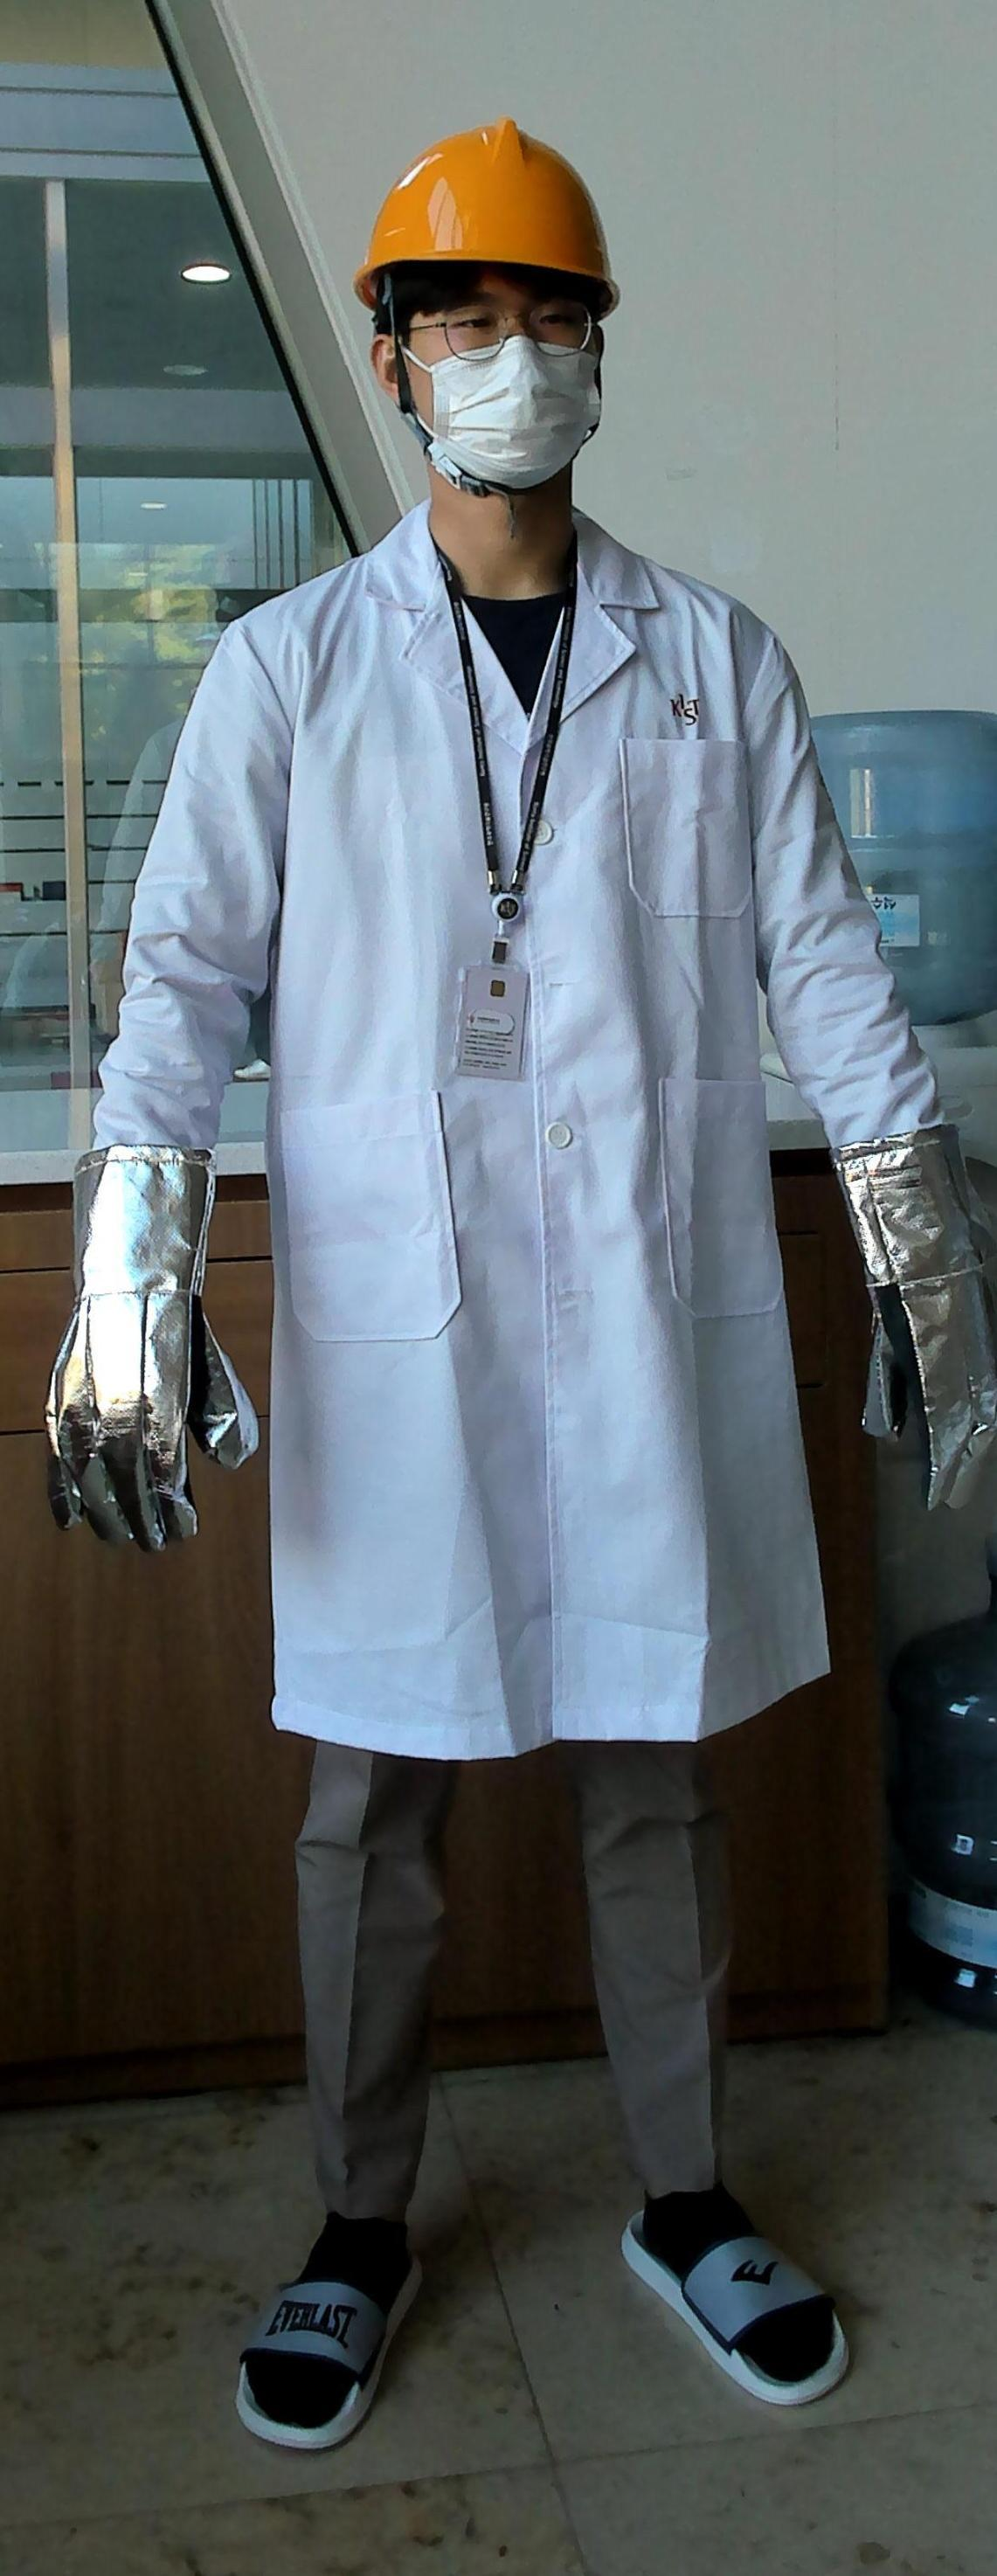lab_coat: (237, 486, 836, 1748)
